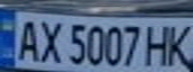0: (103, 21, 127, 68), (84, 21, 106, 68)
5: (63, 19, 87, 66)
7: (121, 21, 145, 68)
A: (9, 16, 42, 62)
H: (142, 20, 175, 68)
K: (163, 20, 193, 69)
X: (33, 16, 66, 64)
